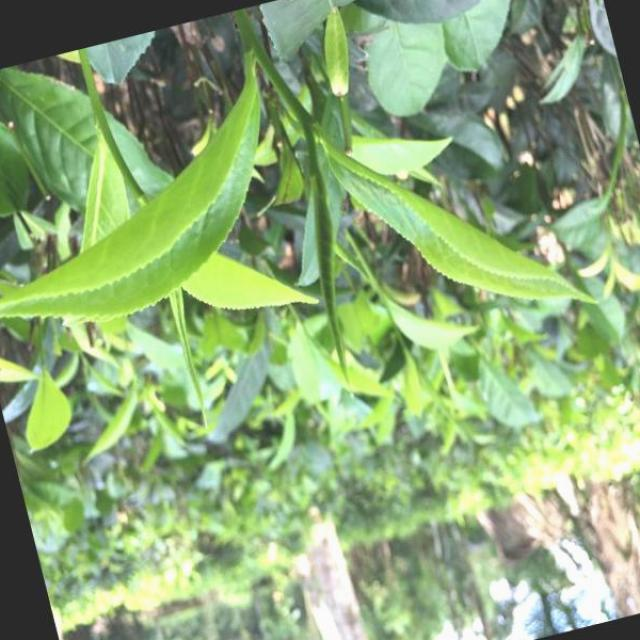Stem: (299, 115, 316, 128), (136, 191, 146, 202)
